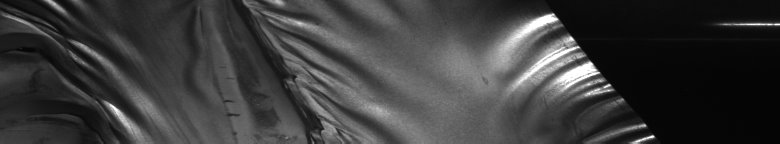ke: (224, 4, 378, 136)
